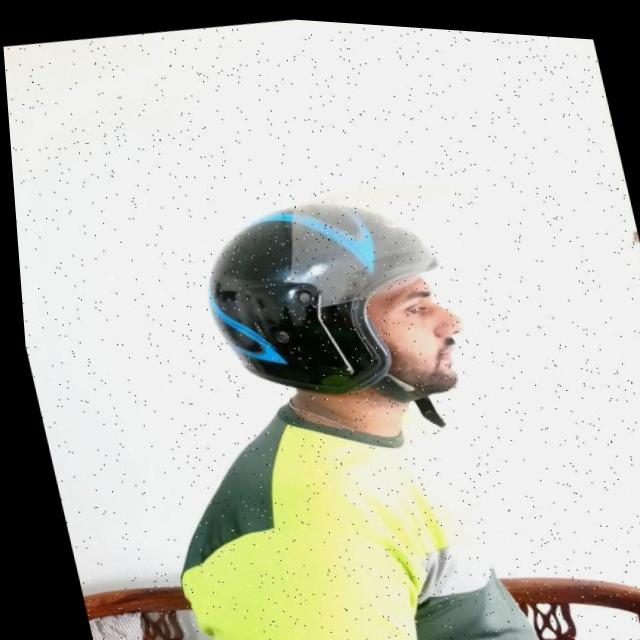helmet: (183, 172, 482, 454)
